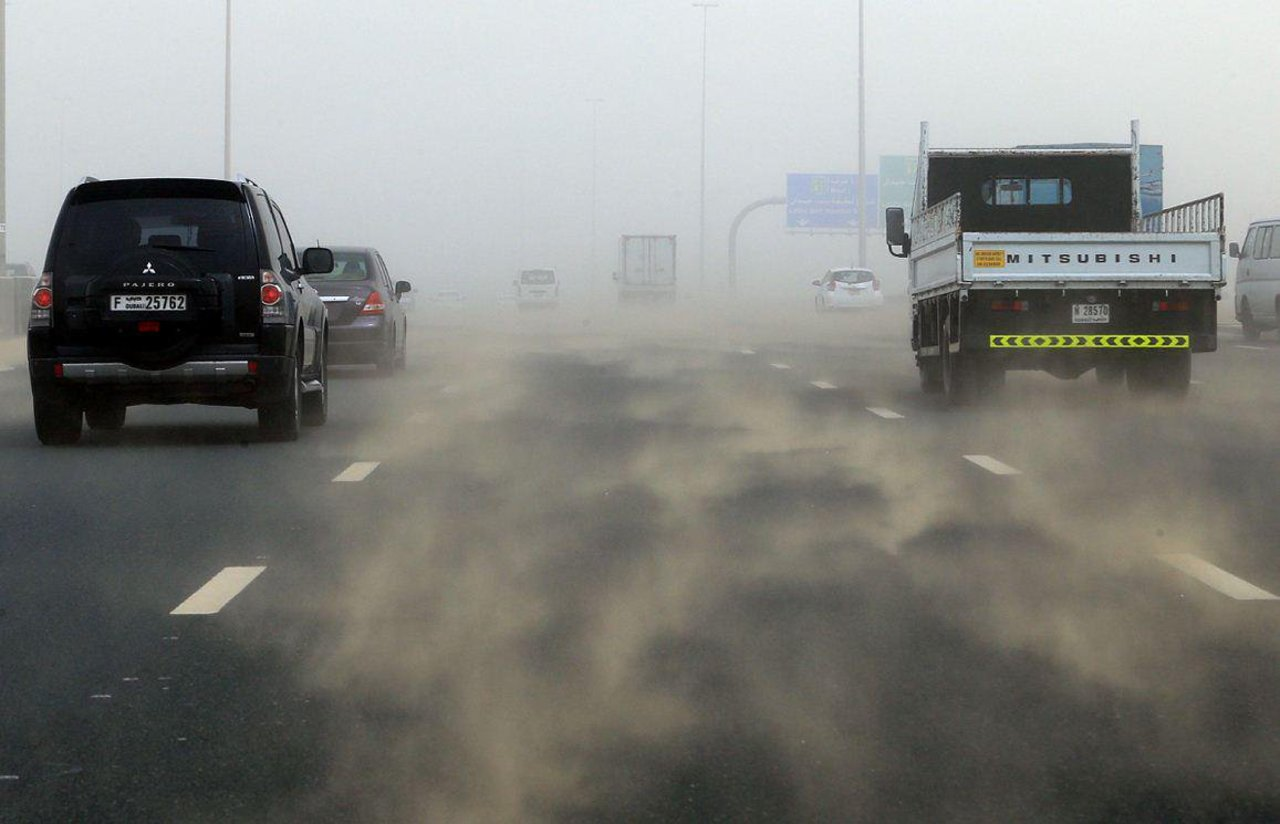car: (24, 175, 326, 443), (302, 245, 407, 372), (1234, 216, 1279, 340), (813, 269, 885, 316), (513, 264, 558, 309), (427, 288, 468, 310)
truck: (893, 130, 1220, 400), (609, 230, 679, 317)
